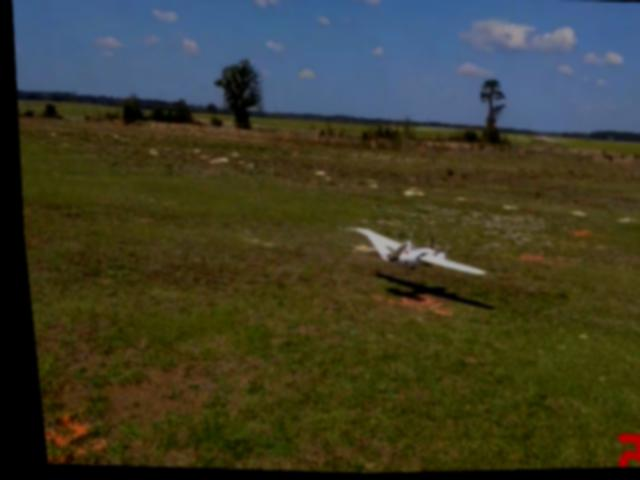plane: (342, 224, 483, 278)
